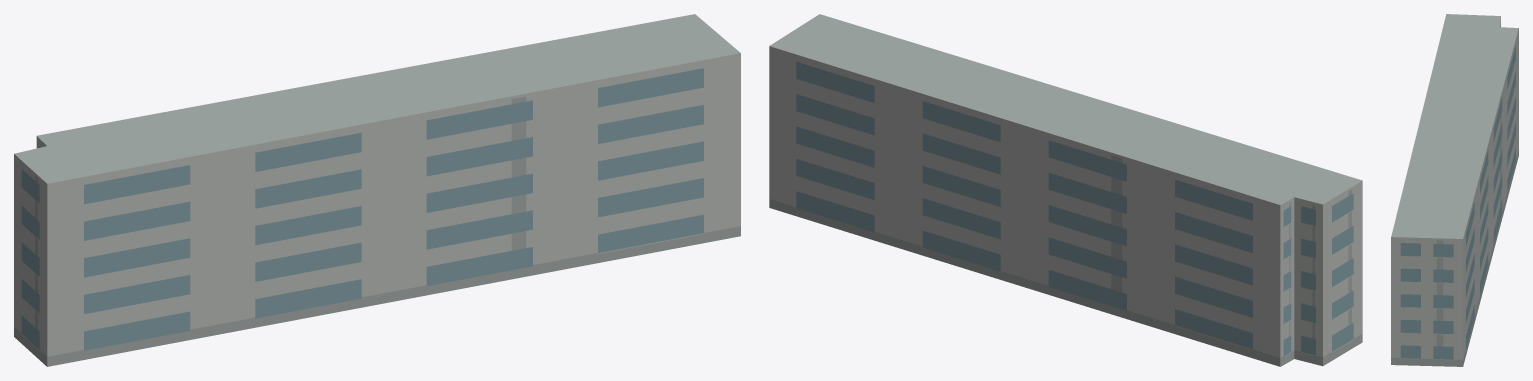
File: survey-upis-32668102.glb
The picture shows the model from 3 angles, left to right: view 1: azimuth 30°, elevation 25°; view 2: azimuth 150°, elevation 25°; view 3: azimuth 270°, elevation 25°; orthographic projection. The views are drawn at different scales.
Visible parts, largest first — view 1: survey-upis-32668102.tmp; view 2: survey-upis-32668102.tmp; view 3: survey-upis-32668102.tmp.
Boxes of the visible parts, x1,y1,x2,y2 form: survey-upis-32668102.tmp: (14, 14, 740, 366); survey-upis-32668102.tmp: (769, 14, 1362, 366); survey-upis-32668102.tmp: (1391, 14, 1518, 366).
Size of the model in its own units: 57.52 by 15.25 by 13.8.
